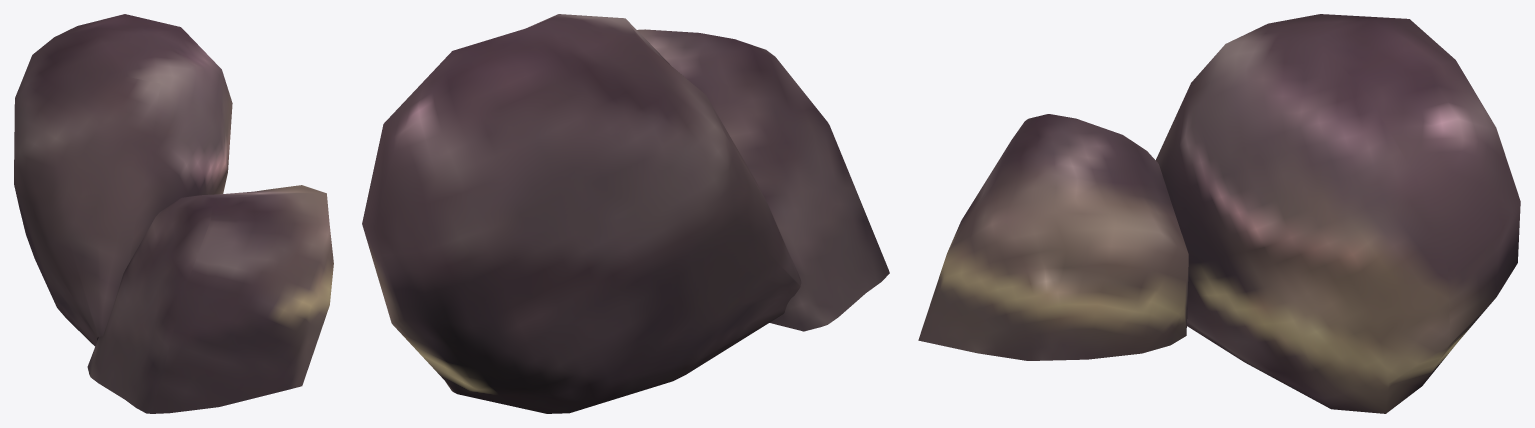
The model's file is Beach_Rocks_8.glb.
3 renders of one model, left to right at view 1: azimuth 30°, elevation 25°; view 2: azimuth 150°, elevation 25°; view 3: azimuth 270°, elevation 25°, orthographic. The views are drawn at different scales.
Visible parts, largest first — view 1: Object_2.037; view 2: Object_2.037; view 3: Object_2.037.
Part boxes in pixels (x1=…): Object_2.037: x1=14, y1=14, x2=333, y2=413; Object_2.037: x1=362, y1=14, x2=889, y2=413; Object_2.037: x1=918, y1=14, x2=1520, y2=413.
Size of the model in its own units: 3.66 by 4.29 by 6.43.
Materials: 1 (1 with a texture image).
